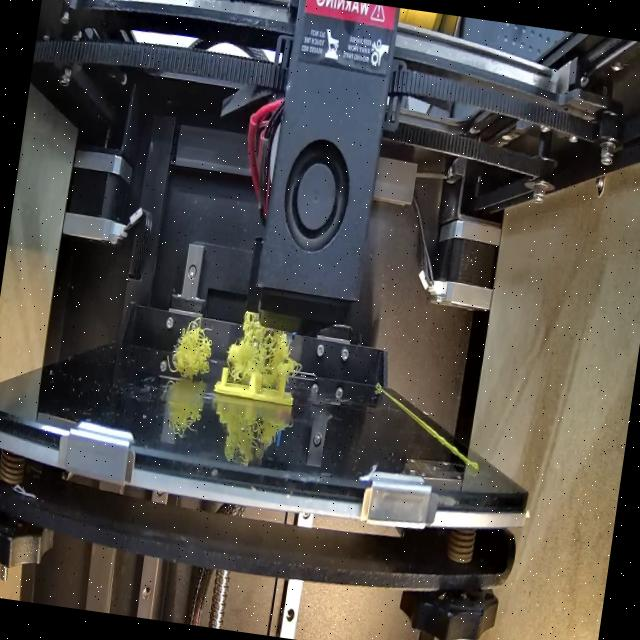spaghetti: (221, 306, 306, 390), (170, 322, 216, 376)
